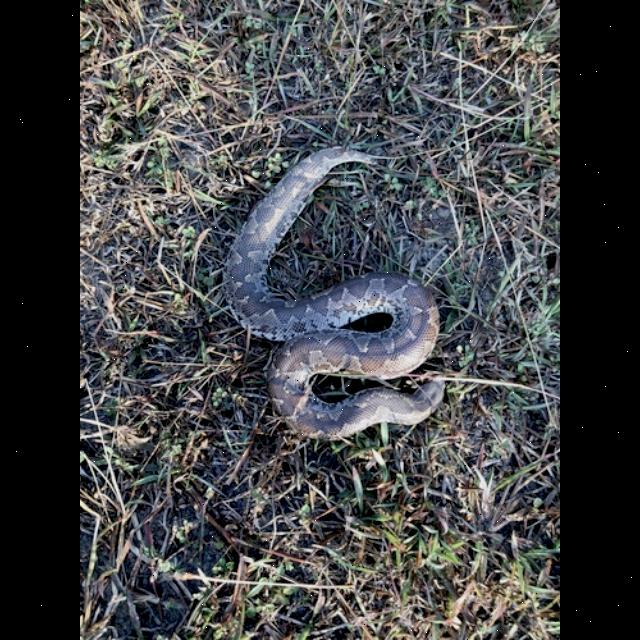snake: (225, 142, 448, 442)
